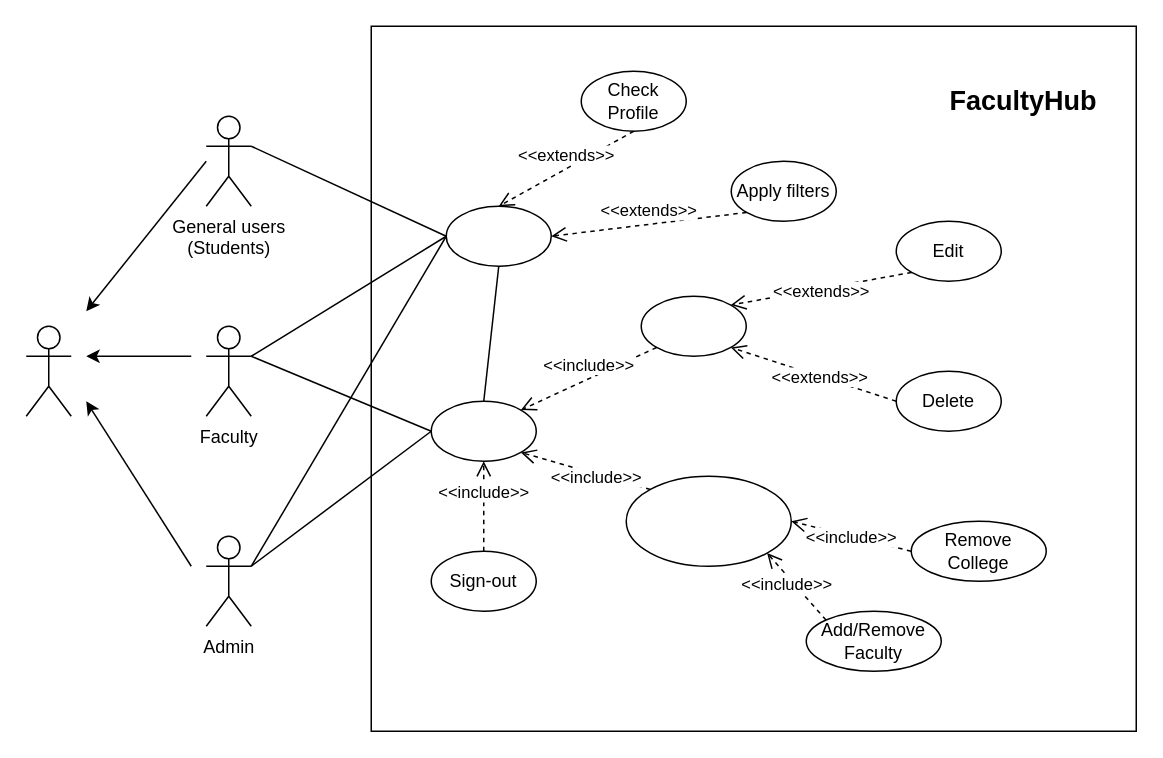
Some shapes in this 1163 by 758 pixel diagram are drawn without their labels. The centre of each missing label's shape, as x and y in pixels:
"Add College (Admin Only)" goes at [708,520].
"Profile" goes at [693,325].
"Search" goes at [498,235].
"Sign-in" goes at [483,430].
"Users" goes at [48,370].
